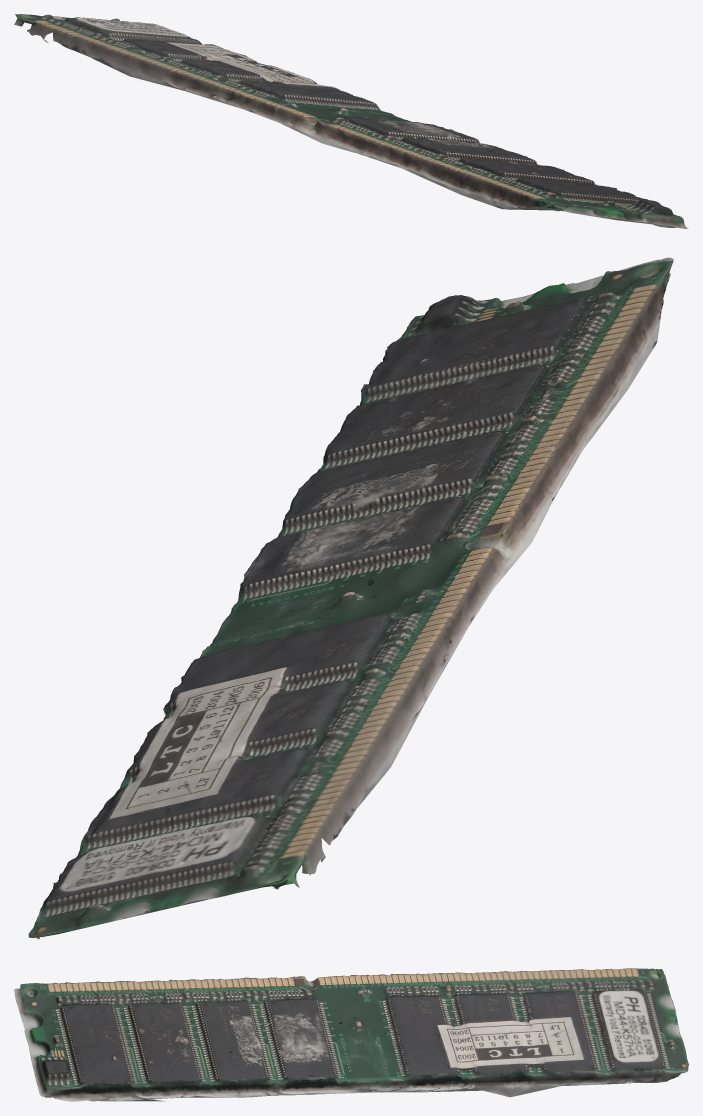
The model's file is RAM1FBX.fbx.
The picture shows the model from 3 angles, top to bottom: view 1: azimuth 30°, elevation 25°; view 2: azimuth 150°, elevation 25°; view 3: azimuth 270°, elevation 25°; orthographic projection. The views are drawn at different scales.
Visible parts, largest first — view 1: Group_Global.001; view 2: Group_Global.001; view 3: Group_Global.001.
Part boxes in pixels (x1,y1,x2,y2): Group_Global.001: (14, 14, 688, 228); Group_Global.001: (28, 257, 673, 939); Group_Global.001: (14, 968, 688, 1101).
Bounding box in the file's own units: 143 × 56.67 × 337.
